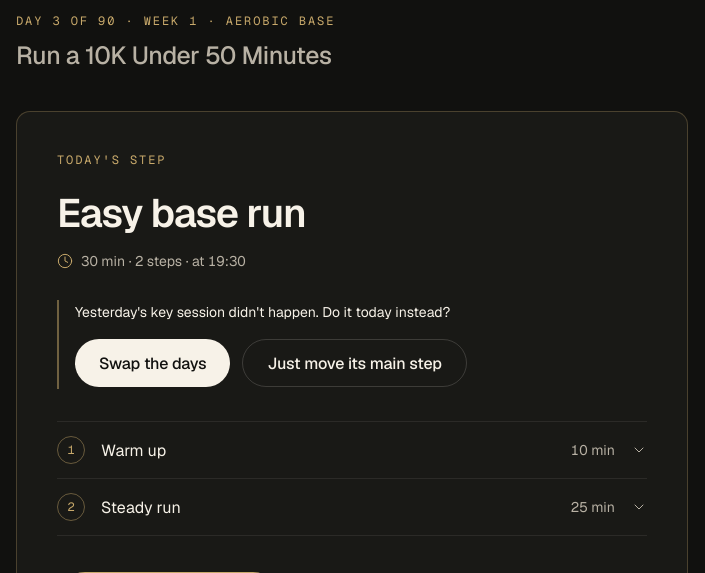
Test: Today: swap offer, set today aside, swap with another day (missed sessions M3.3) › swap offer › a refusal of a tap says "That didn't change. Please try again." beside the answers, never the server text
This screenshot has width=705, height=573.
Step 1. Click the button "Just move its main step" → (355, 364), box [242,340,467,388]
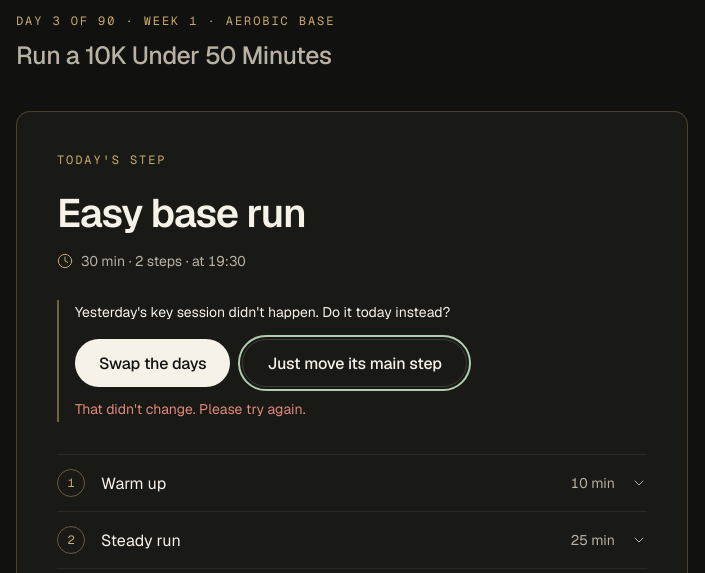
Expected: the text "Yesterday's key session didn't happen. Do it today instead?" is shown, [75,302,467,324]
Now the text "That didn't change. Please try again." is shown, box [75,400,306,418]
